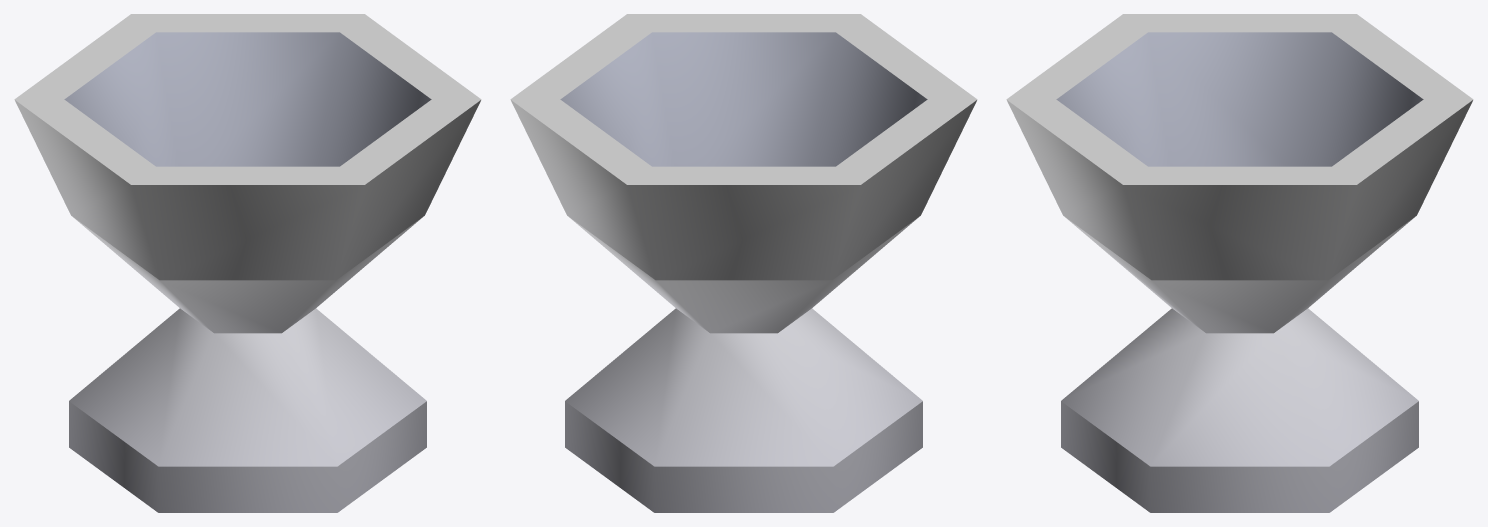
The model's file is egg-cup.glb.
3 renders of one model, left to right at view 1: azimuth 30°, elevation 25°; view 2: azimuth 150°, elevation 25°; view 3: azimuth 270°, elevation 25°, orthographic.
Visible parts, largest first — view 1: egg-cup; view 2: egg-cup; view 3: egg-cup.
Boxes of the visible parts, x1,y1,x2,y2 form: egg-cup: (14, 14, 481, 512); egg-cup: (510, 14, 977, 512); egg-cup: (1006, 14, 1473, 512).
Size of the model in its own units: 0.1581 by 0.15 by 0.1826.
